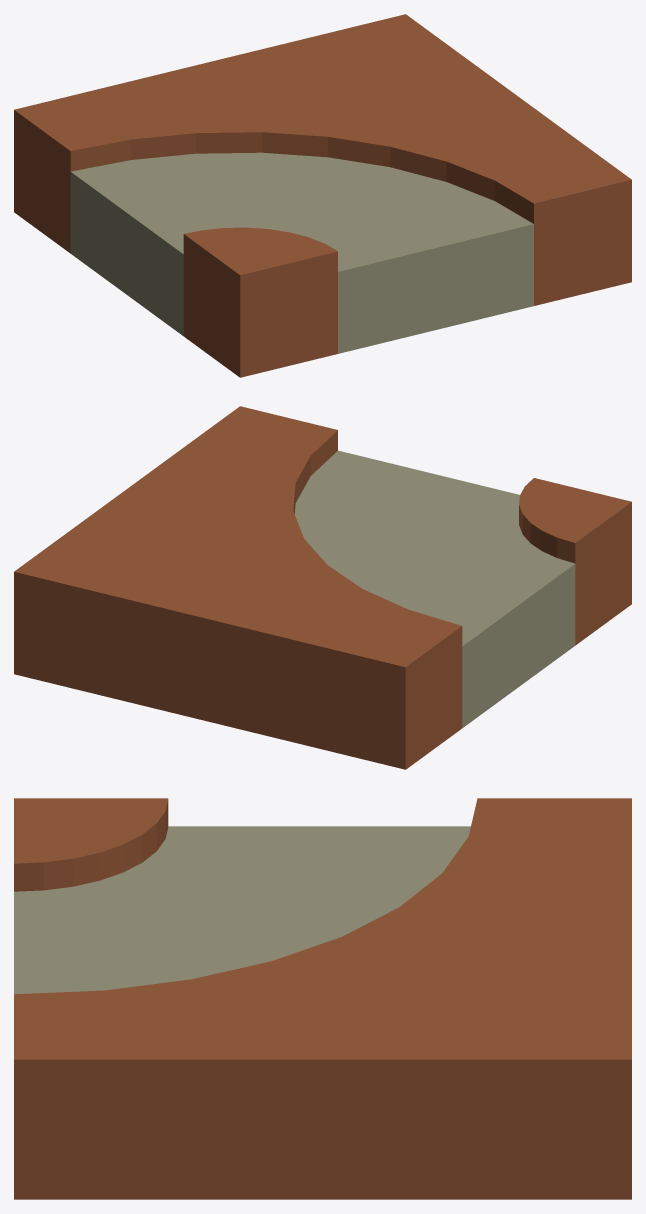
Rendered from Floor-Outdoor-4x4x1-Path-Narrow-Corner.FBX.
3 views of the same model, one above another, from view 1: azimuth 30°, elevation 25°; view 2: azimuth 150°, elevation 25°; view 3: azimuth 270°, elevation 25° (orthographic). The views are drawn at different scales.
Visible parts, largest first — view 1: Floor-Outdoor-4x4x1-Path-Narrow-Corner; view 2: Floor-Outdoor-4x4x1-Path-Narrow-Corner; view 3: Floor-Outdoor-4x4x1-Path-Narrow-Corner.
Boxes of the visible parts, x1=… form: Floor-Outdoor-4x4x1-Path-Narrow-Corner: x1=14, y1=14, x2=631, y2=377; Floor-Outdoor-4x4x1-Path-Narrow-Corner: x1=14, y1=406, x2=631, y2=769; Floor-Outdoor-4x4x1-Path-Narrow-Corner: x1=14, y1=798, x2=631, y2=1199.
Bounding box in the file's own units: 40 × 40 × 10.
